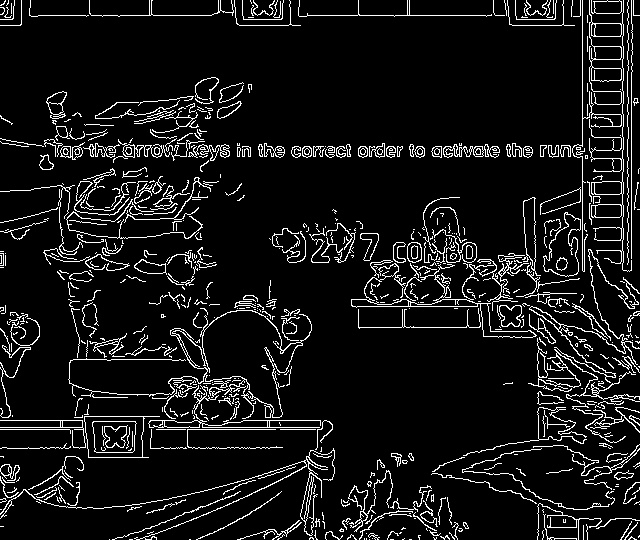left: (425, 227, 462, 258)
right: (266, 224, 304, 258), (322, 219, 358, 254), (167, 211, 206, 243)
